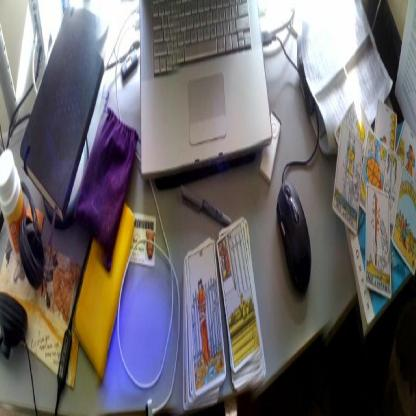board: (136, 4, 272, 198), (0, 145, 26, 259)
